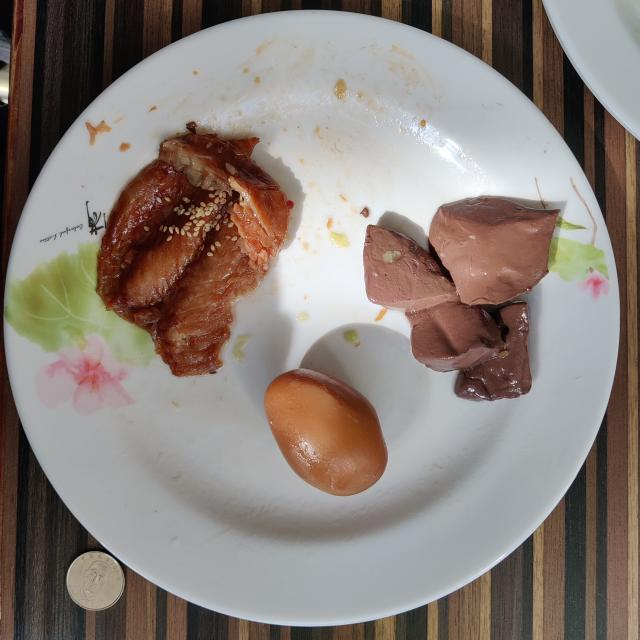Kabayaki sea bream fillet: (96, 121, 294, 376)
coin: (66, 551, 125, 611)
pig blood curd: (364, 196, 560, 400)
soy egg: (264, 369, 388, 496)
